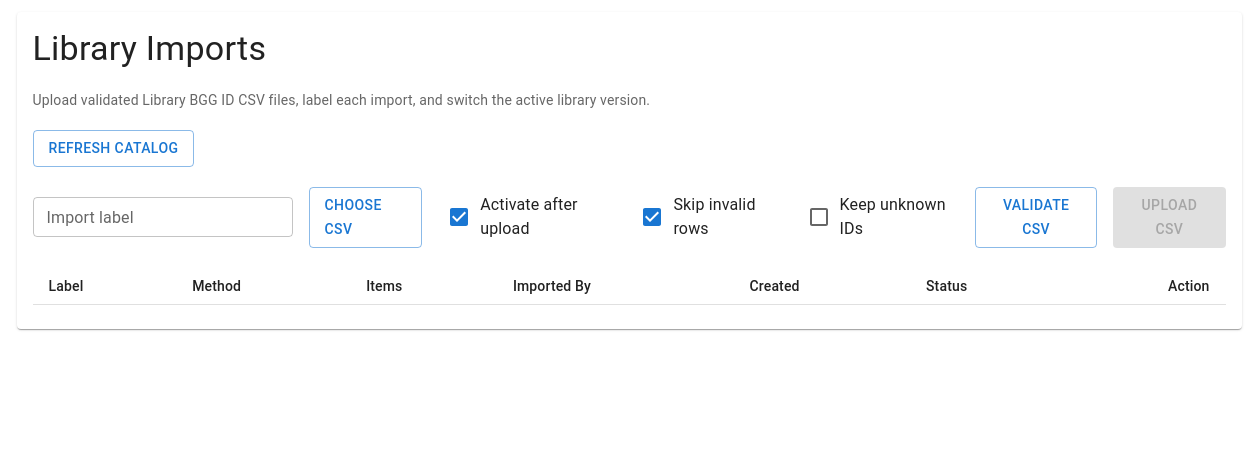
it: AdminLibraryImportsPage › requests catalog refresh from admin page
Click the button "Refresh Catalog" at (113,148), box 32,130 -> 194,166
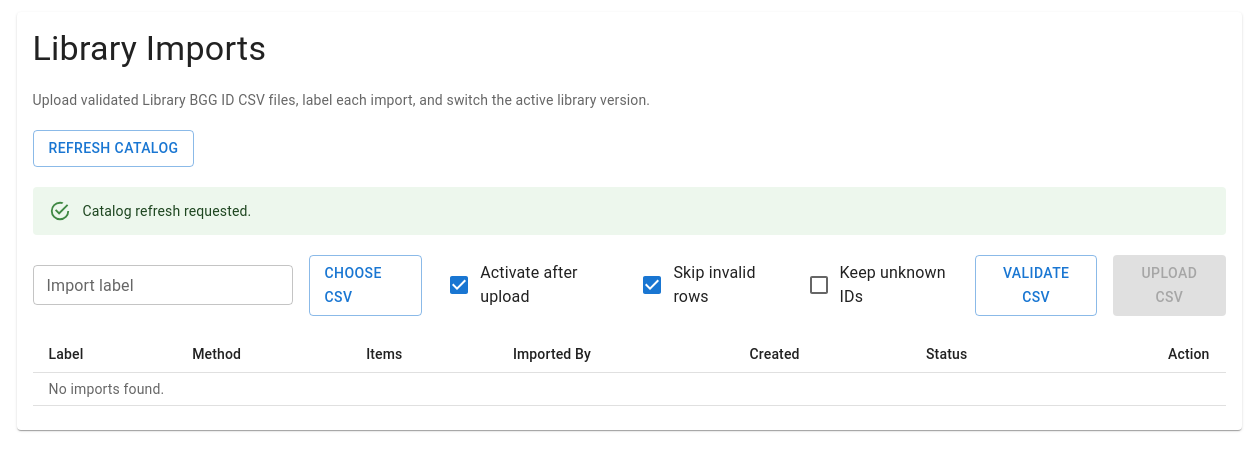
Check: the text "Catalog refresh requested." is shown, box 82,202 -> 251,218
